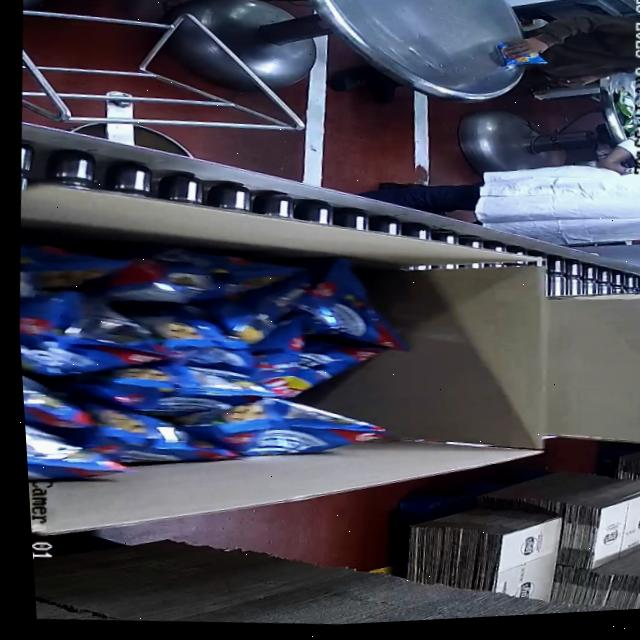PAPRIKA: (15, 230, 405, 524)
